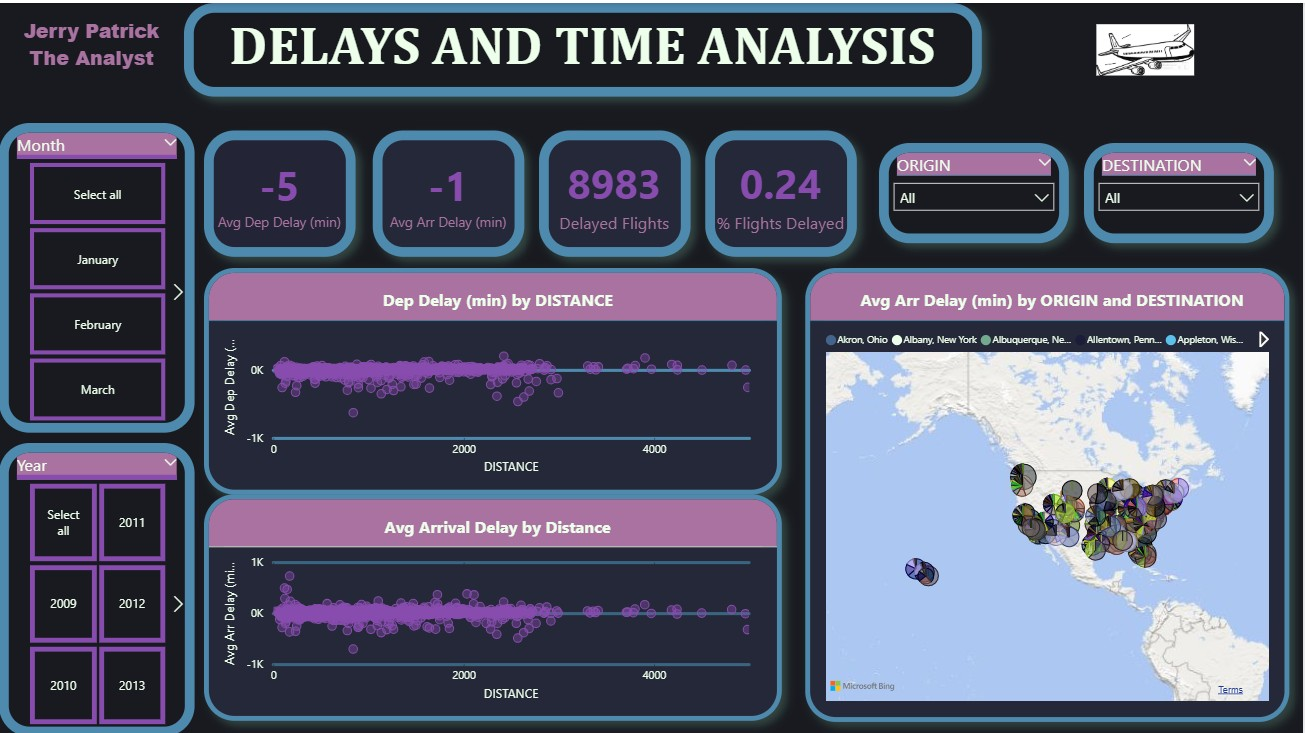

The page's visual inventory and layout, read from the dashboard file:
{"tool":"powerbi","page":{"name":"Delays & Time Analysis","canvas":[1280,720],"ordinal":1},"visuals":[{"type":"textbox","box":[181.6,0,782.8,92],"z":0},{"type":"textbox","box":[0,13.5,181.6,66.3],"z":1000},{"type":"image","box":[998.8,0,252.8,92],"z":2000},{"type":"slicer","title":"Month","fields":{"Values":["flights_data.Flight_Date.Variation.Date Hierarchy.Month"]},"box":[0,118.2,192,304],"z":3000},{"type":"slicer","title":"Year","fields":{"Values":["flights_data.Flight_Date.Variation.Date Hierarchy.Year"]},"box":[0,432,192,288],"z":4000},{"type":"card","fields":{"Values":["flights_data.Avg Dep Delay (min)"]},"box":[201,125.4,148.5,124.2],"z":5000},{"type":"card","fields":{"Values":["flights_data.Avg Arr Delay (min)"]},"box":[367.4,125.4,148.5,124.2],"z":6000},{"type":"card","fields":{"Values":["flights_data.Delayed Flights"]},"box":[529.9,125.4,148.5,124.2],"z":7000},{"type":"card","fields":{"Values":["flights_data.% Flights Delayed"]},"box":[693.8,125.4,148.5,124.2],"z":8000},{"type":"slicer","fields":{"Values":["flights_data.ORIGIN"]},"box":[863.8,137.4,186.5,98.2],"z":9000},{"type":"slicer","fields":{"Values":["flights_data.DESTINATION"]},"box":[1065,137.4,186.5,98.2],"z":10000},{"type":"scatterChart","title":"Dep Delay (min) by DISTANCE","fields":{"Y":["flights_data.Avg Dep Delay (min)"],"X":["flights_data.DISTANCE"]},"box":[200.6,259.7,567.4,222.8],"z":11000},{"type":"scatterChart","title":"Avg Arrival Delay by Distance","fields":{"Y":["flights_data.Avg Arr Delay (min)"],"X":["flights_data.DISTANCE"]},"box":[201,482.6,567,222.7],"z":12000},{"type":"map","fields":{"Category":["flights_data.ORIGIN"],"Size":["flights_data.Avg Arr Delay (min)"],"Series":["flights_data.DESTINATION"]},"box":[791.4,259.7,475.1,445.5],"z":13000}]}

Visuals, with their boxes in screenshot pixels (x1, y1, x2, y2), scaled from the page's 1280x720 canvas onto the 1305x733 screenshot:
textbox: 185:0:983:94
textbox: 0:14:185:81
image: 1018:0:1276:94
"Month" slicer: 0:120:196:430
"Year" slicer: 0:440:196:732
card - flights_data.Avg Dep Delay (min): 205:128:356:254
card - flights_data.Avg Arr Delay (min): 375:128:526:254
card - flights_data.Delayed Flights: 540:128:692:254
card - flights_data.% Flights Delayed: 707:128:859:254
slicer - flights_data.ORIGIN: 881:140:1071:240
slicer - flights_data.DESTINATION: 1086:140:1276:240
"Dep Delay (min) by DISTANCE" scatterChart: 205:264:783:491
"Avg Arrival Delay by Distance" scatterChart: 205:491:783:718
map - flights_data.ORIGIN x flights_data.Avg Arr Delay (min): 807:264:1291:718
